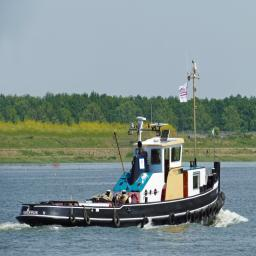tugboat: (15, 47, 228, 235)
